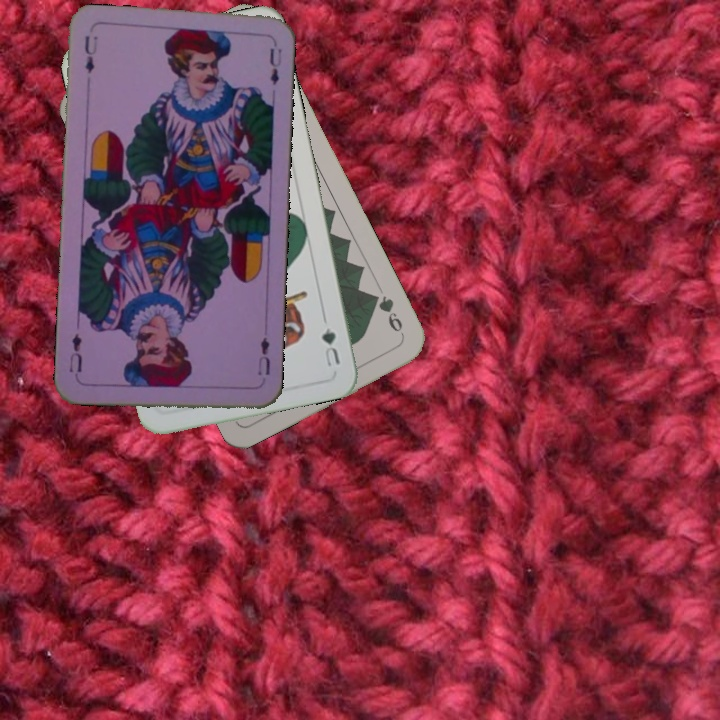EU: (253, 333, 273, 378), (80, 31, 100, 76)
G9: (367, 290, 408, 341)
GU: (317, 323, 343, 370)
